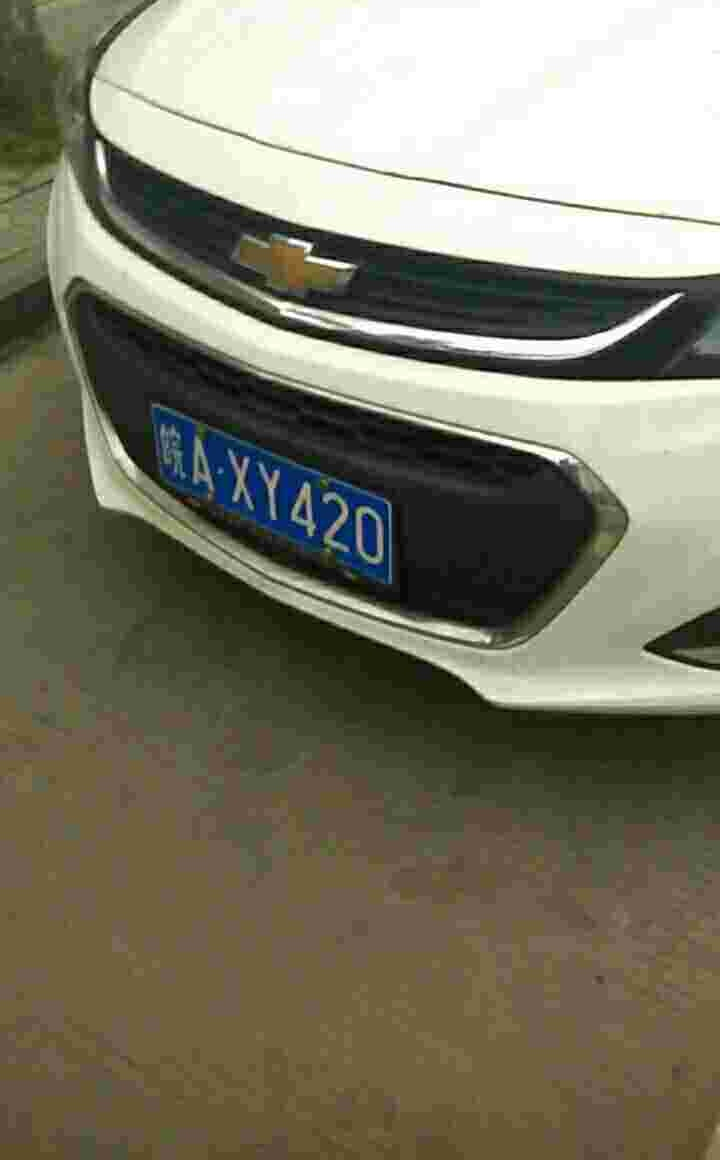license_plate: (135, 416, 399, 584)
